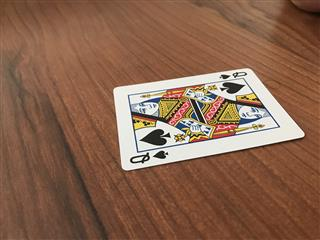QueenOfSpades: (111, 66, 305, 171)
